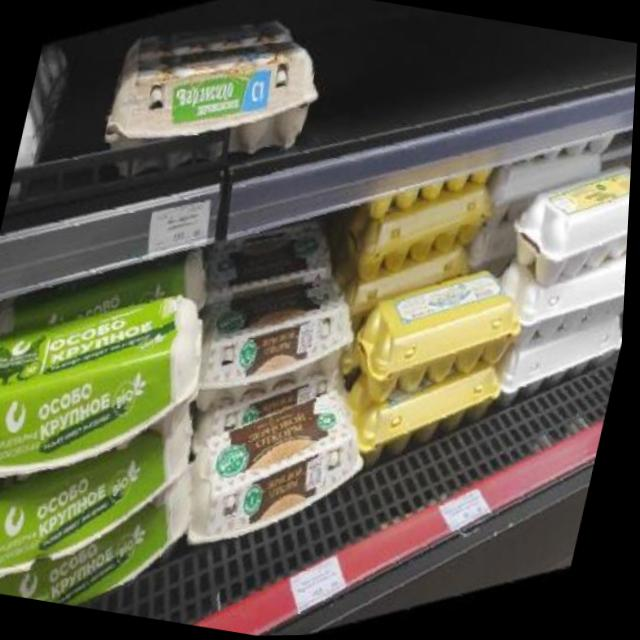Egg: (0, 247, 229, 539), (81, 0, 342, 236), (0, 390, 207, 622), (175, 360, 390, 566), (182, 242, 375, 431)
